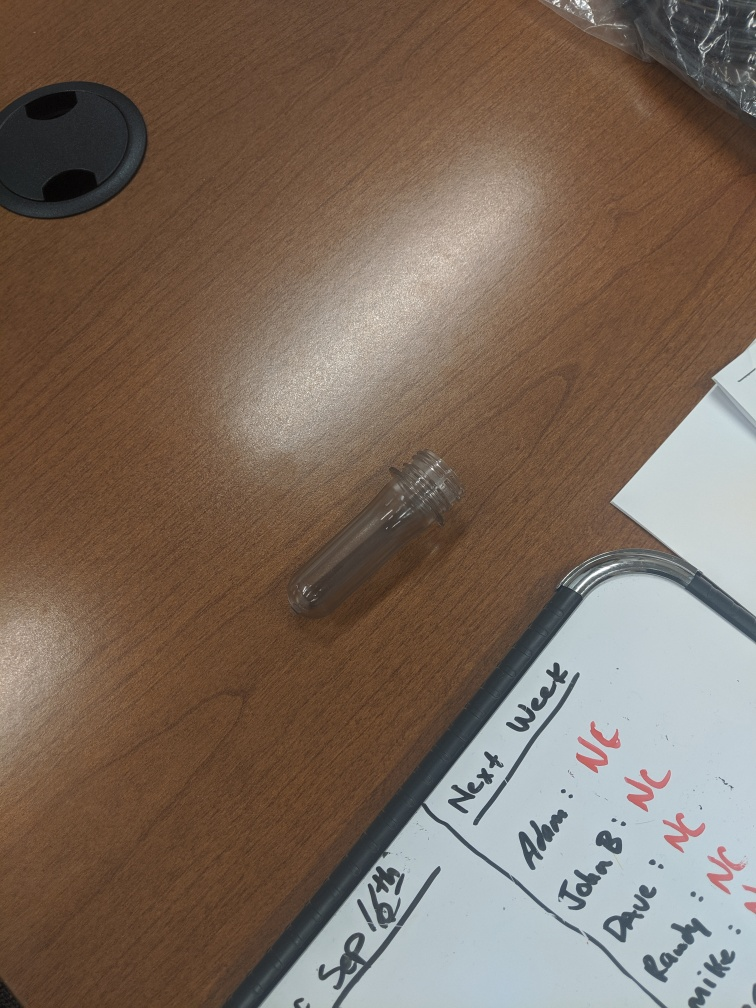preform: (280, 445, 473, 628)
